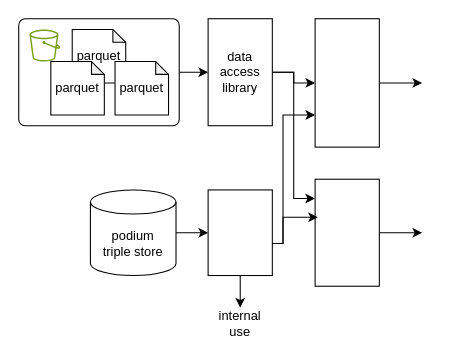
This 449x358 diagram has some shape labels left out. The centre of each missing label's shape, as x and y in pixels:
combined REST API: the point at 346,82
sapi-nt metadata API: the point at 239,232
STA shim: the point at 346,232
